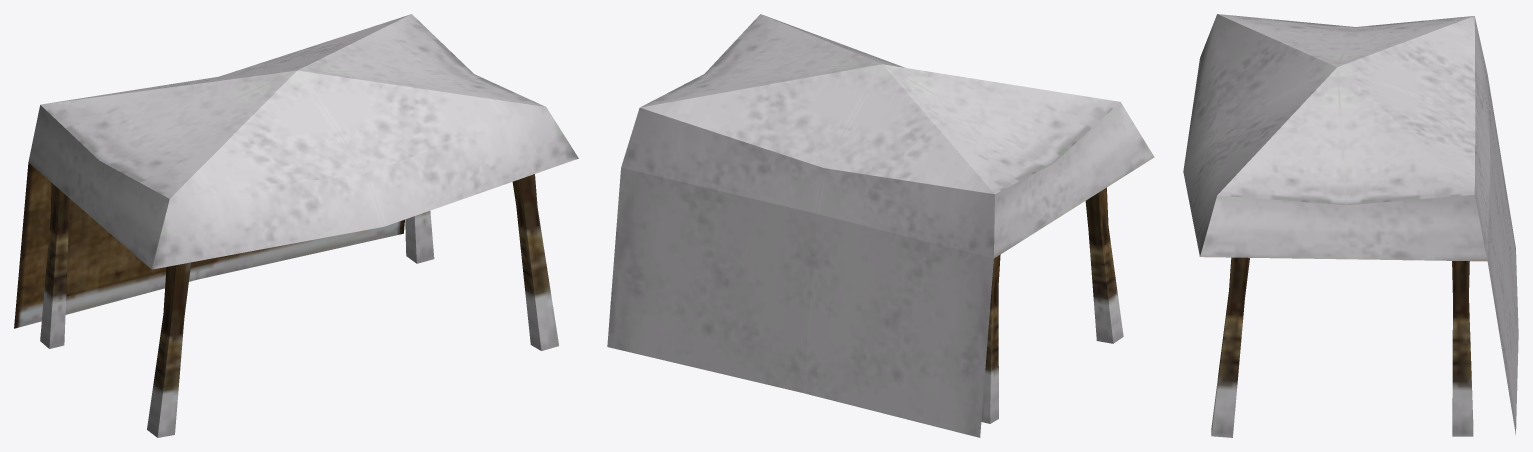
The model's file is nsm-general_obj_06.glb.
3 renders of one model, left to right at view 1: azimuth 30°, elevation 25°; view 2: azimuth 150°, elevation 25°; view 3: azimuth 270°, elevation 25°, orthographic. The views are drawn at different scales.
Visible parts, largest first — view 1: Object02; view 2: Object02; view 3: Object02.
Boxes of the visible parts, <box> form: Object02: <box>14,14,578,437</box>; Object02: <box>607,14,1154,437</box>; Object02: <box>1183,14,1518,437</box>.
Bounding box in the file's own units: 5.57 × 3.49 × 3.84.
Materials: 1 (1 with a texture image).
